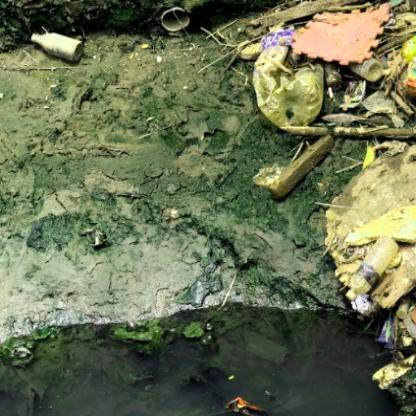Glass: (30, 25, 82, 62)
Plastic: (344, 236, 398, 303)
Trash: (370, 351, 415, 393)
